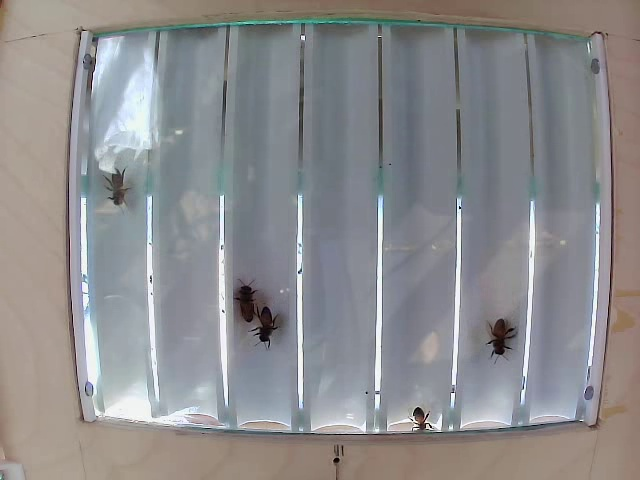bee: (476, 311, 518, 369), (96, 164, 140, 208), (236, 279, 268, 323), (401, 400, 435, 434), (249, 303, 279, 340)
